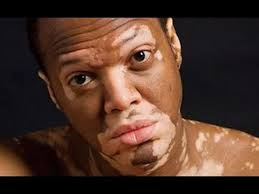vitiligo: (24, 28, 190, 165)
